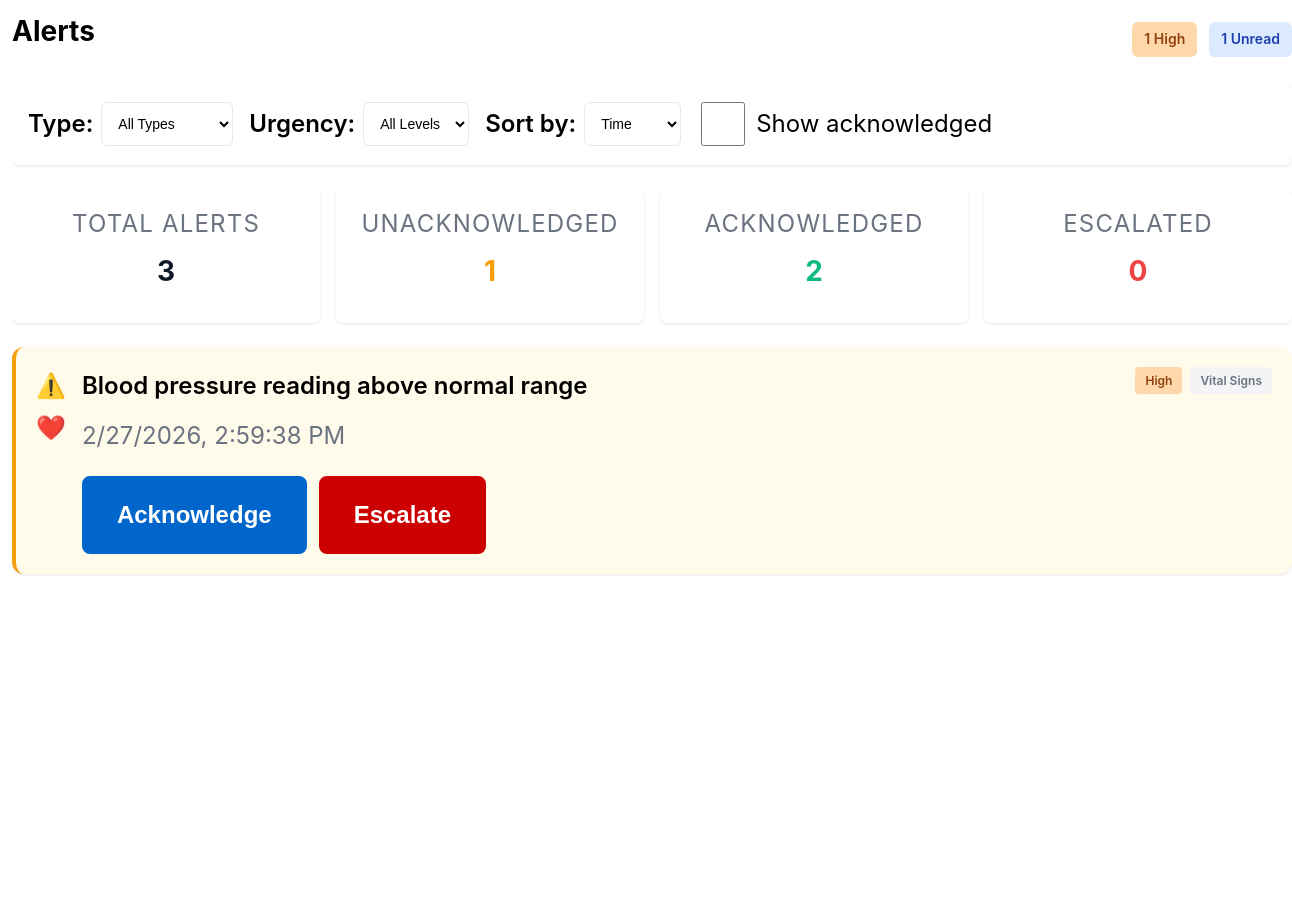
AlertsPanelWidget › Alert Filtering › should toggle acknowledged alerts visibility
Expected: the text "Blood pressure reading above normal range" is shown, [82,367,588,405]
Expected: the text "Daily check-in completed" is not shown
Toggle to show acknowledged alerts
Click the checkbox named "Show acknowledged alerts": (723, 124) [701,102,745,146]
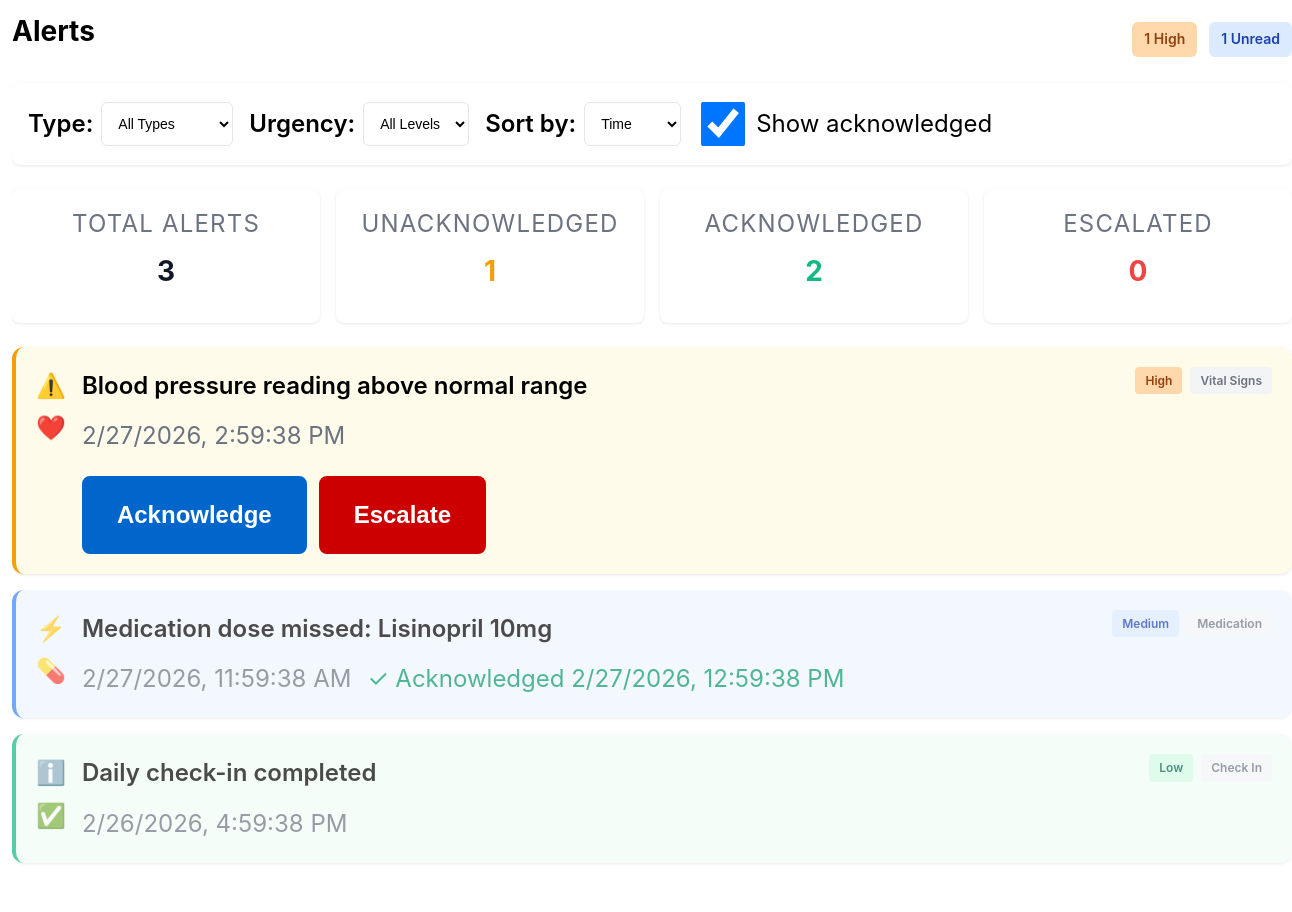
Result: the text "Daily check-in completed" is shown at [82,754,376,793]
